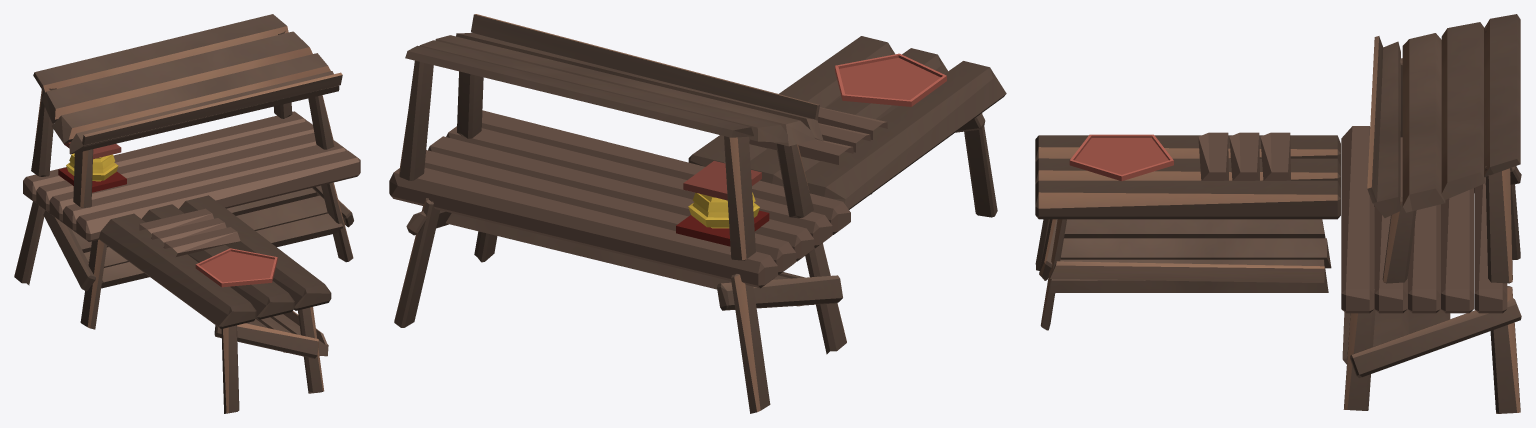
Rendered from Shop_1lvl.fbx.
3 views of the same model, side by side, from view 1: azimuth 30°, elevation 25°; view 2: azimuth 150°, elevation 25°; view 3: azimuth 270°, elevation 25° (orthographic). The views are drawn at different scales.
Visible parts, largest first — view 1: Shop_1lvl; view 2: Shop_1lvl; view 3: Shop_1lvl.
Boxes of the visible parts, x1=… form: Shop_1lvl: x1=14, y1=14, x2=360, y2=413; Shop_1lvl: x1=389, y1=14, x2=1006, y2=413; Shop_1lvl: x1=1035, y1=14, x2=1521, y2=413.
Size of the model in its own units: 3 by 2.13 by 3.65.
Materials: 1 (1 with a texture image).
